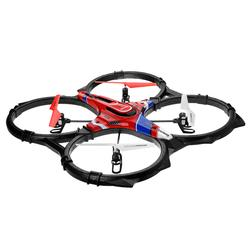drone: (6, 70, 246, 188)
